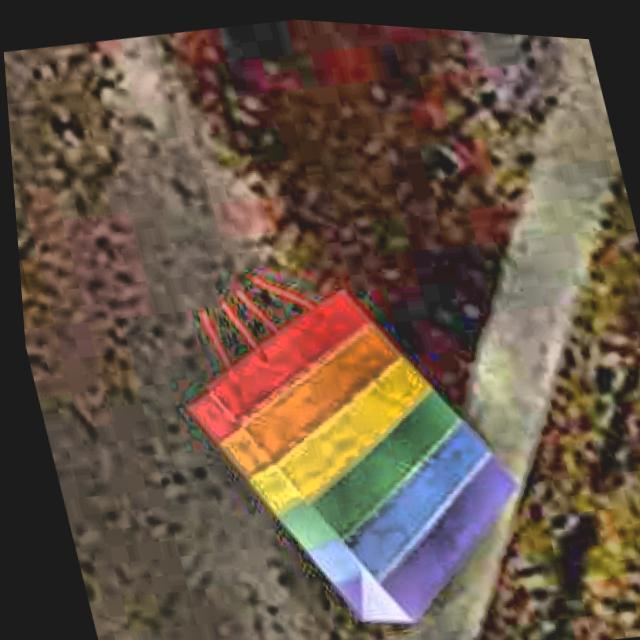Paper-bag: (116, 221, 559, 640)
